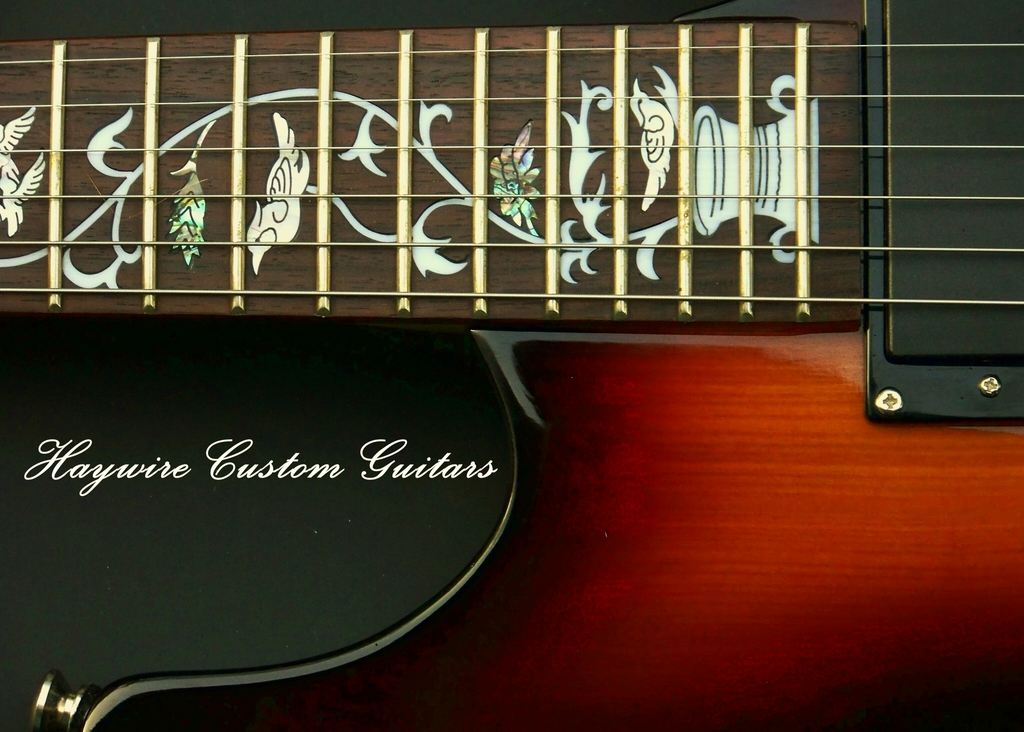guitar: (2, 1, 1015, 718)
